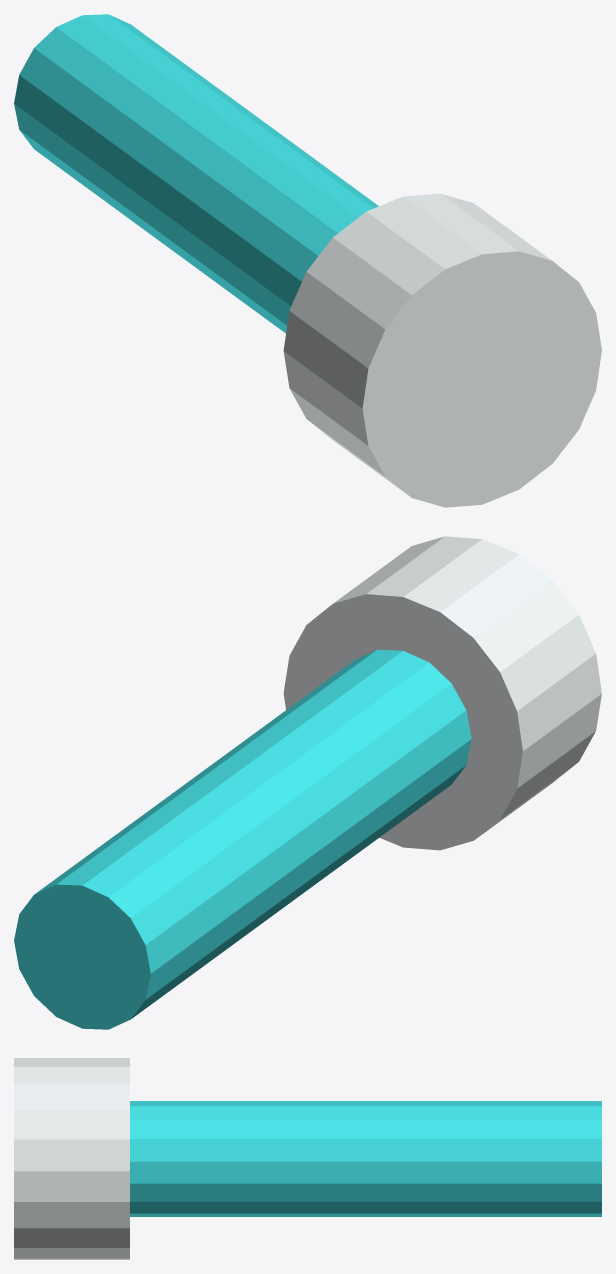
Rendered from path-light.glb.
3 renders of one model, top to bottom at view 1: azimuth 30°, elevation 25°; view 2: azimuth 150°, elevation 25°; view 3: azimuth 270°, elevation 25°, orthographic. The views are drawn at different scales.
Parts seen in each view (by area): view 1: world; view 2: world; view 3: world.
Boxes of the visible parts, x1,y1,x2,y2 form: world: (14, 14, 601, 507); world: (14, 536, 601, 1029); world: (14, 1058, 601, 1259).
Size of the model in its own units: 0.28 by 0.28 by 0.81.
